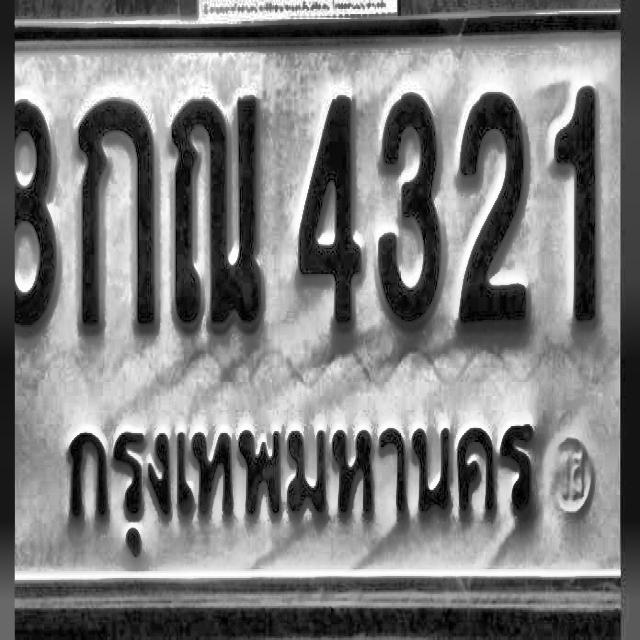license-plate: (14, 0, 619, 640)
